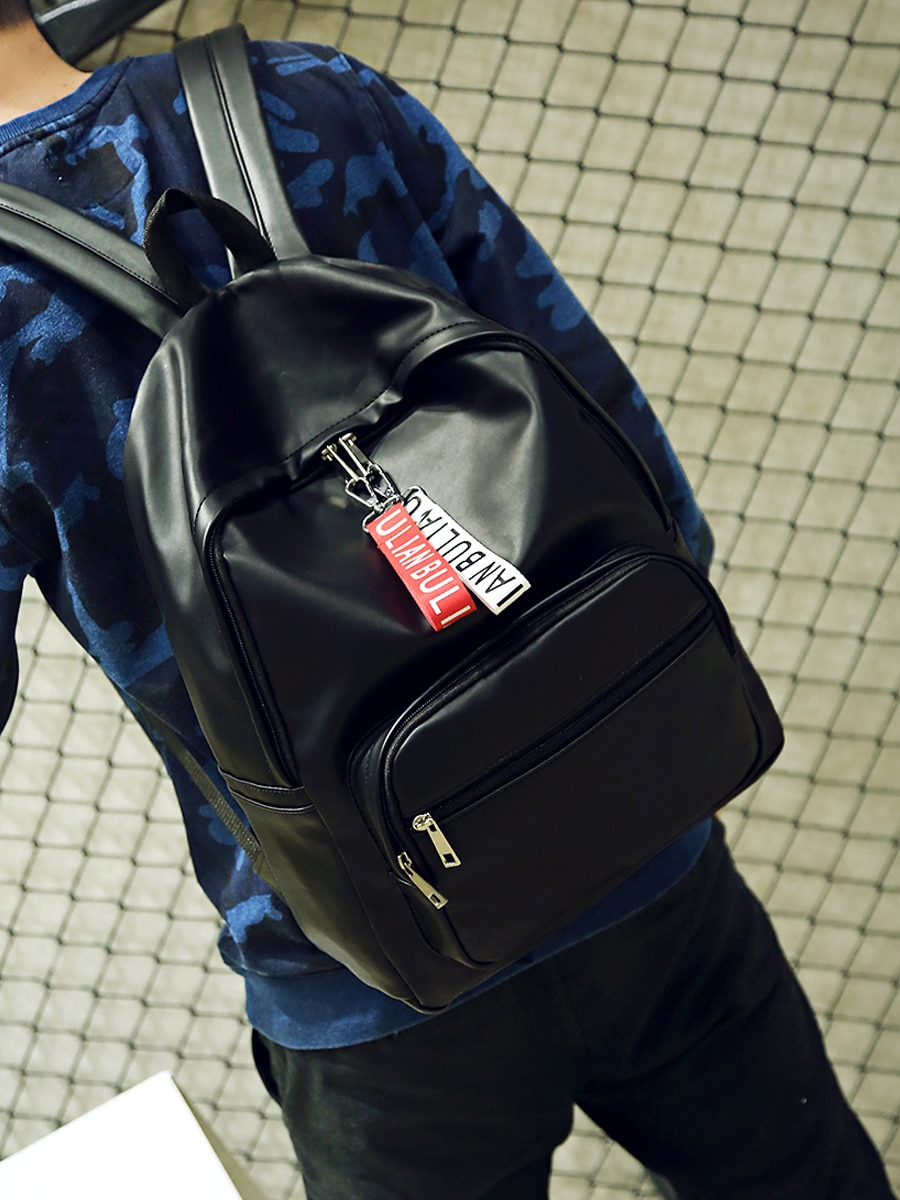Bottoms|Pants: (263, 828, 900, 1197)
Men's Backpacks: (75, 201, 788, 1014)
